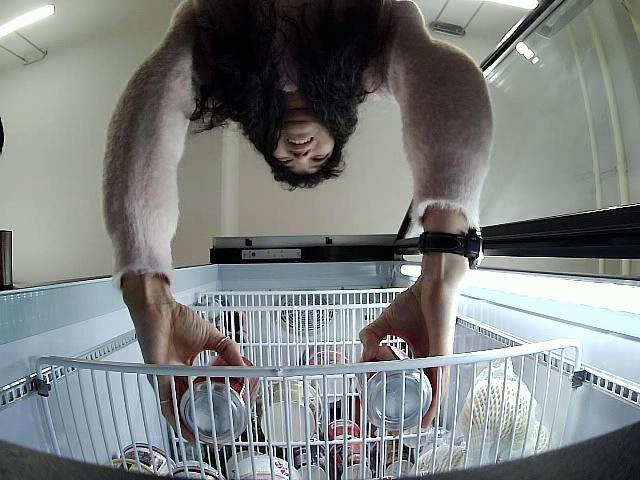11_cocaColaZero: (178, 354, 258, 446), (356, 344, 434, 432)
